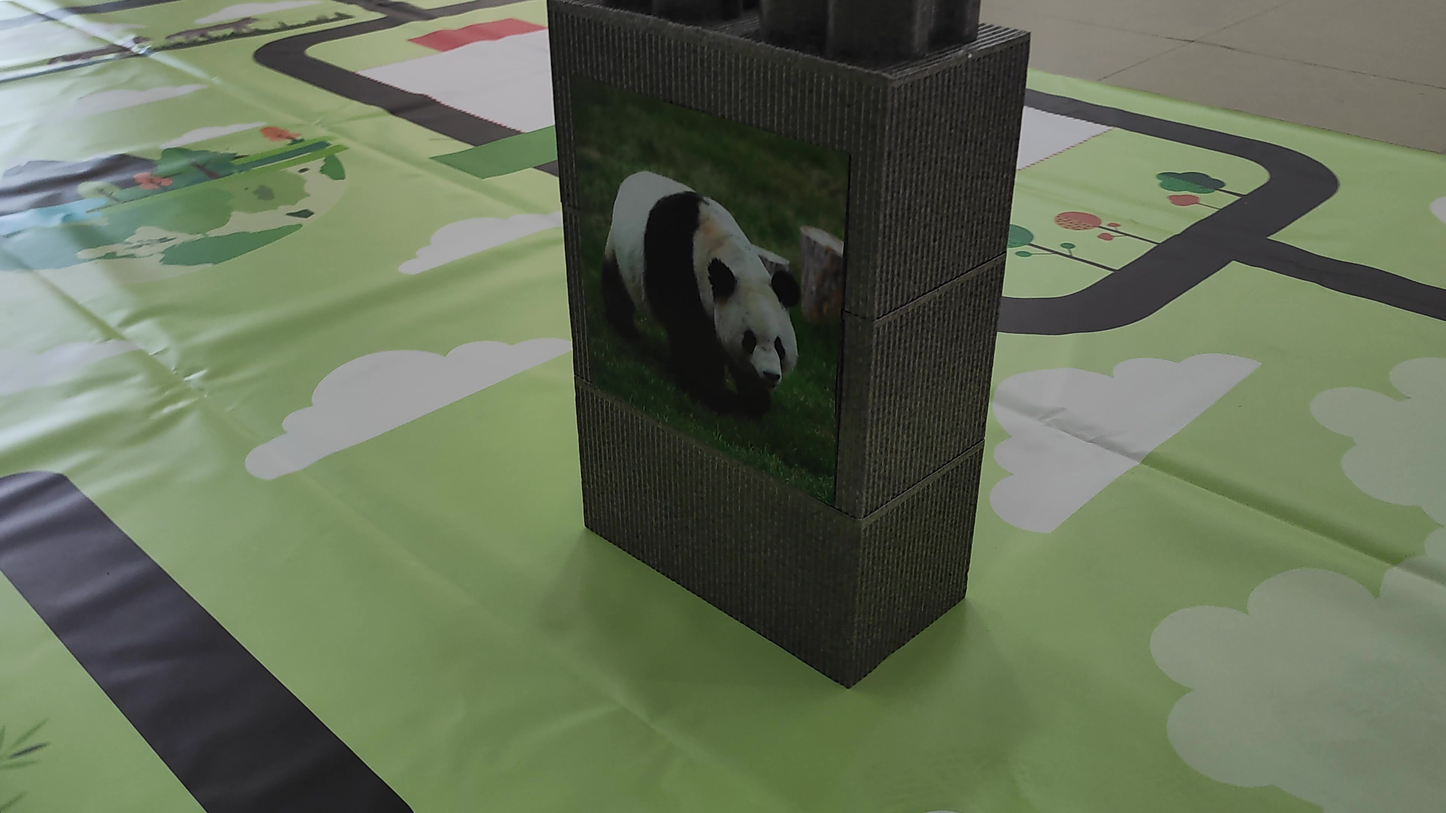panda: (560, 148, 829, 435)
